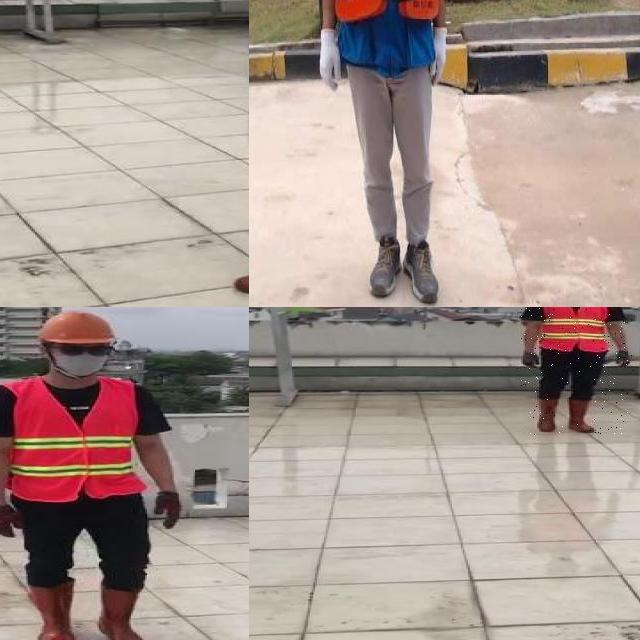boots: (92, 585, 154, 640), (26, 582, 77, 640), (404, 239, 442, 307), (369, 232, 403, 302), (566, 399, 596, 433), (534, 398, 558, 433)
face_mask: (52, 341, 114, 376)
glasses: (54, 340, 110, 358)
hand_glove: (154, 490, 181, 531), (0, 503, 24, 539)
head_helmet: (35, 309, 119, 347)
person: (0, 307, 189, 640), (289, 0, 487, 307), (520, 307, 633, 436)
vest: (7, 377, 142, 498), (327, 0, 438, 70), (537, 307, 608, 352)
